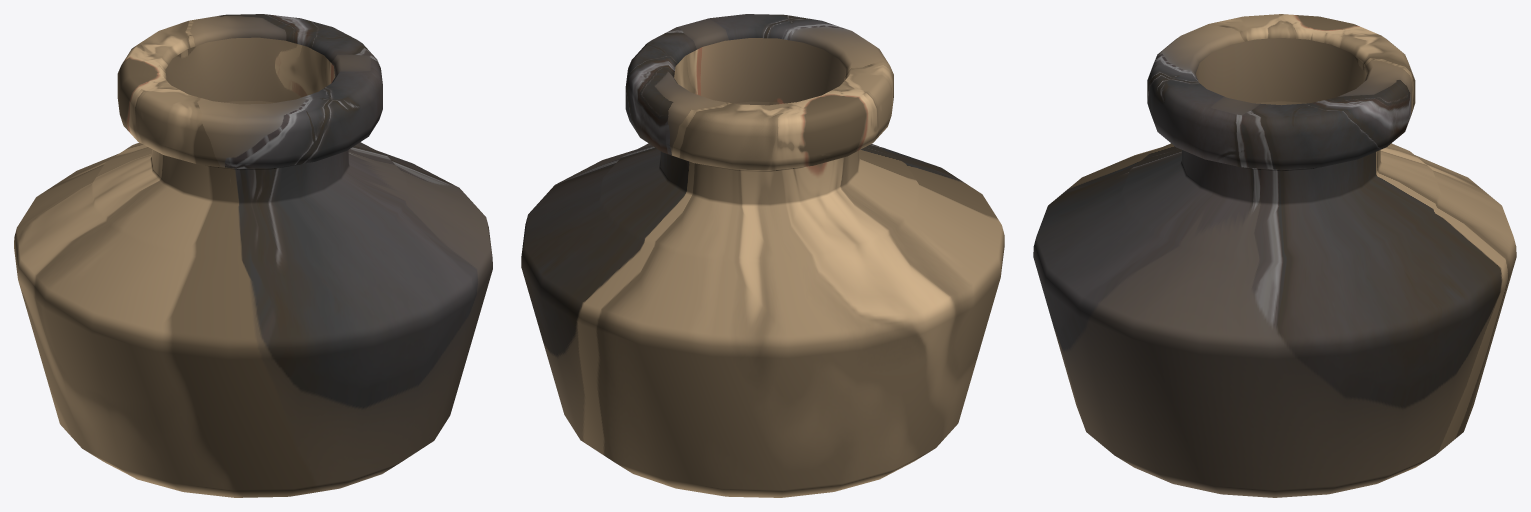
File: SM_InkWell.fbx
The picture shows the model from 3 angles, left to right: view 1: azimuth 30°, elevation 25°; view 2: azimuth 150°, elevation 25°; view 3: azimuth 270°, elevation 25°; orthographic projection.
Parts seen in each view (by area): view 1: SM_InkWell; view 2: SM_InkWell; view 3: SM_InkWell.
Boxes of the visible parts, box(x1,y1,x2,y2) form: SM_InkWell: box(14, 14, 492, 497); SM_InkWell: box(521, 14, 1004, 497); SM_InkWell: box(1033, 14, 1516, 497).
Bounding box in the file's own units: 0.2809 × 0.2298 × 0.2809.
